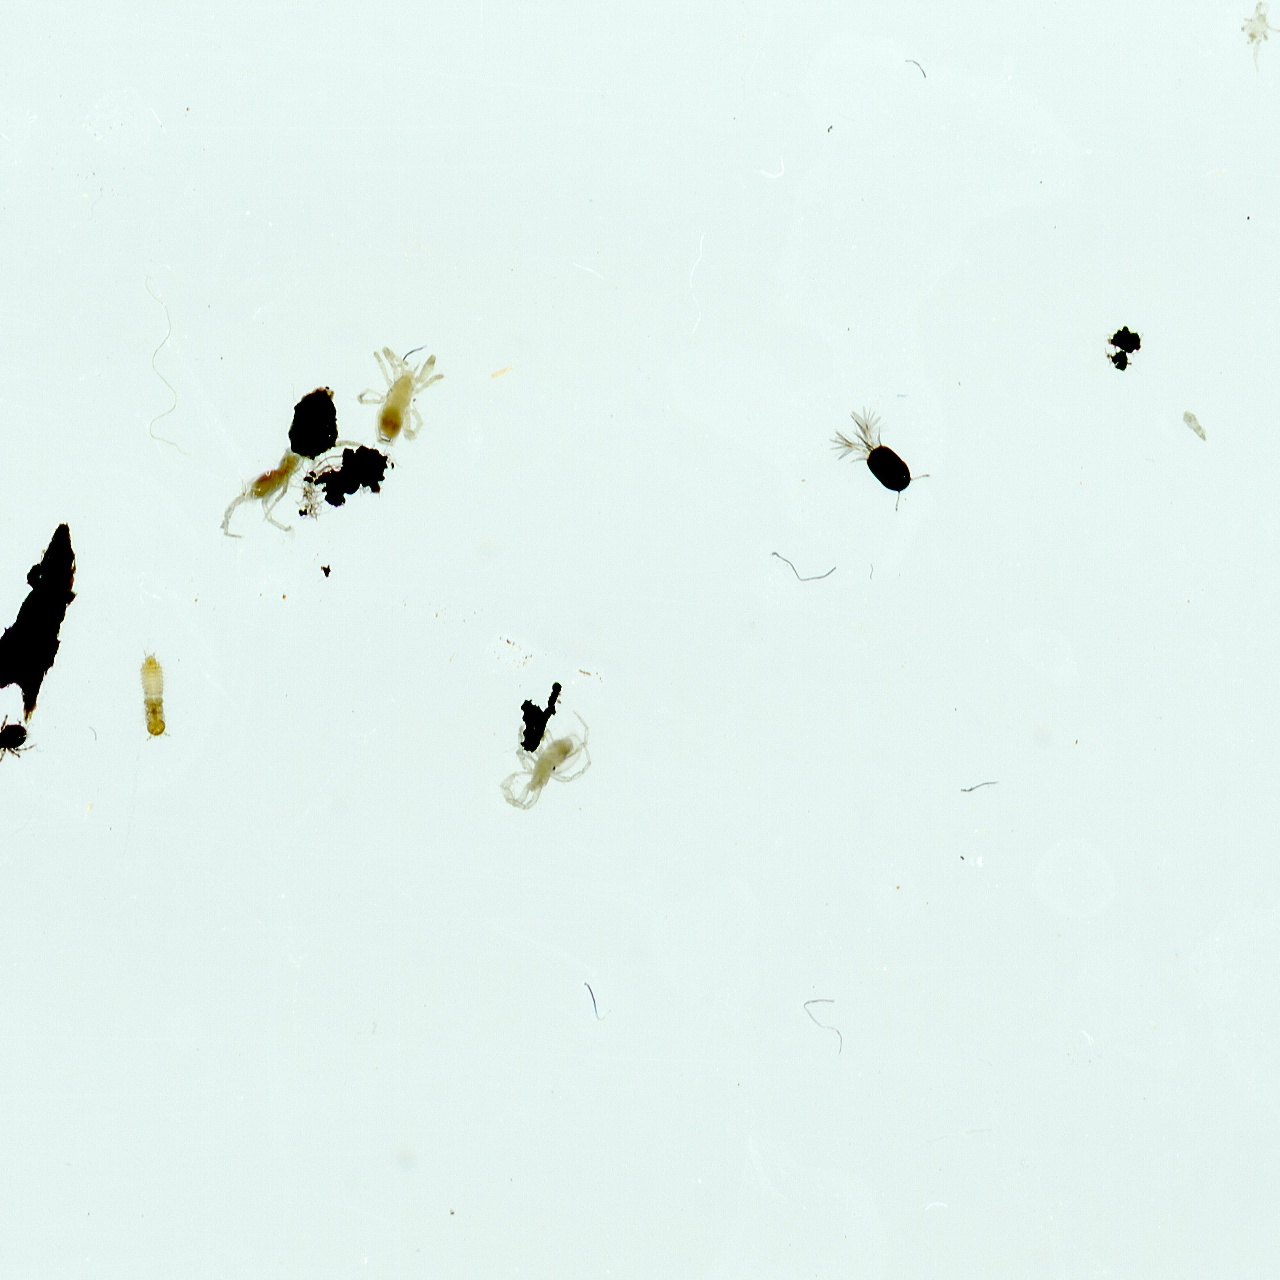arthropod: (206, 402, 370, 568), (818, 395, 941, 518), (498, 703, 613, 832), (355, 342, 449, 449), (136, 640, 172, 743), (1234, 0, 1280, 80), (0, 710, 41, 769)
